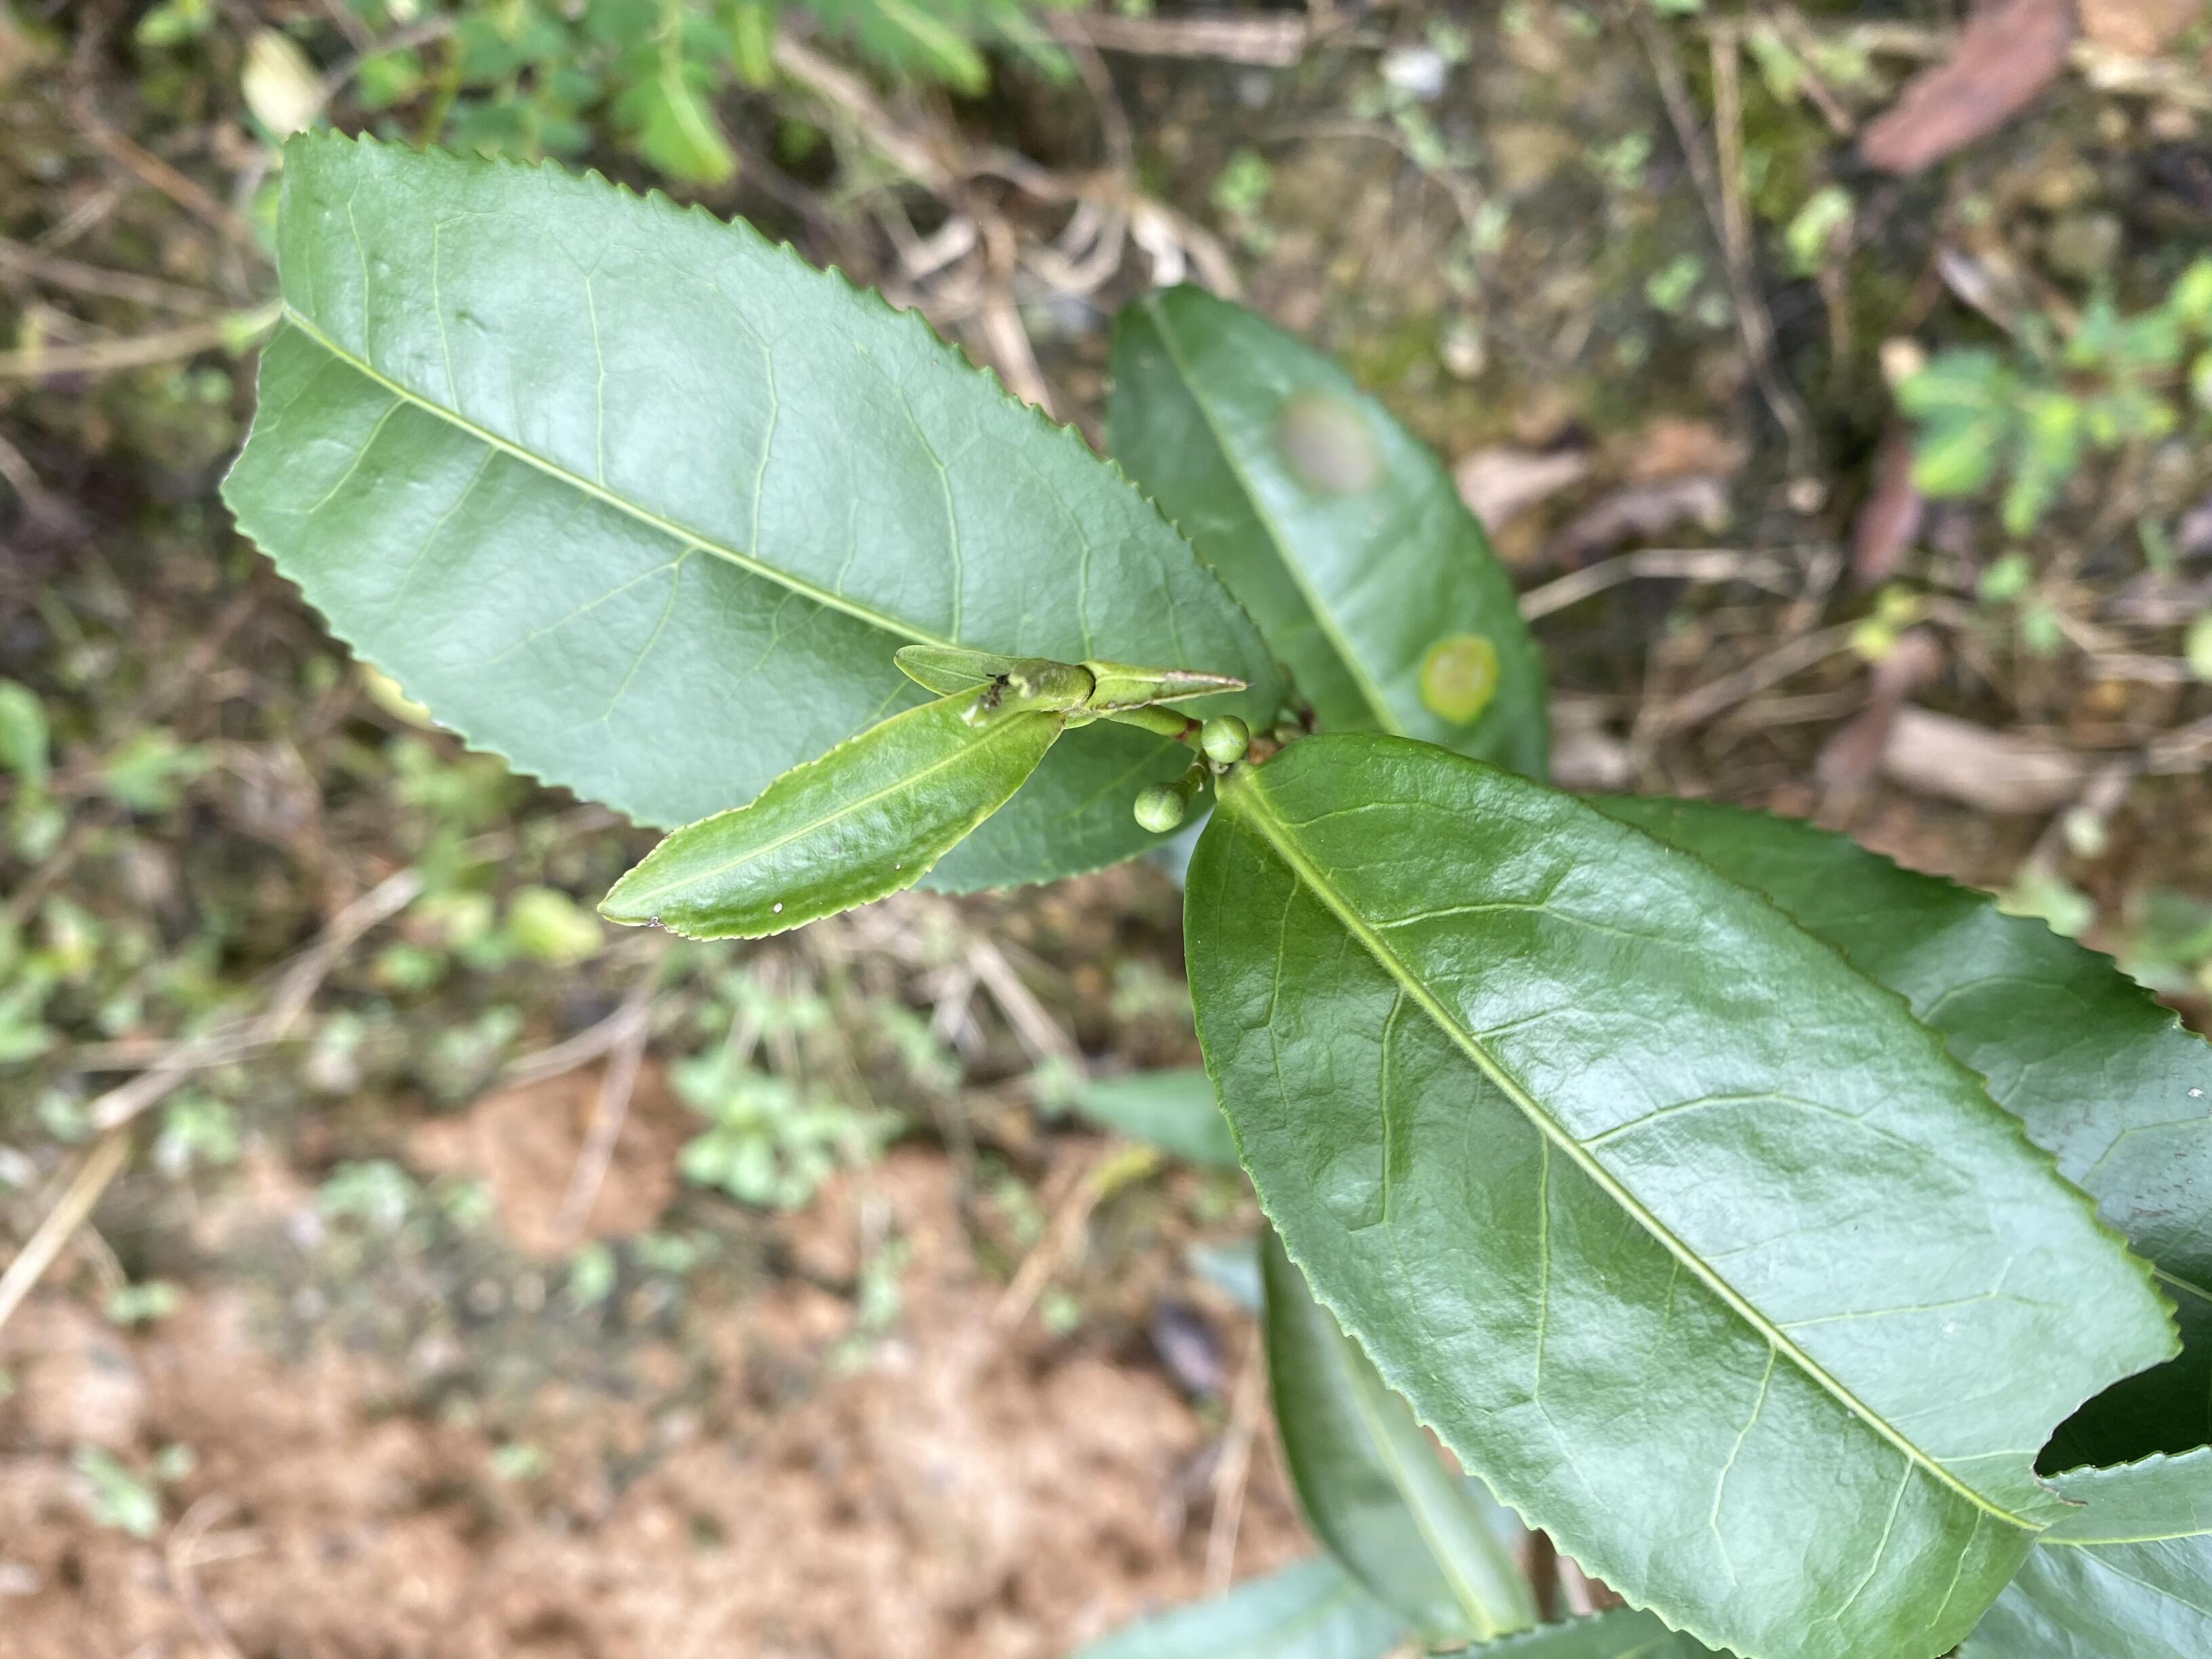chabing_high: (1113, 284, 1554, 775)
chihuo_low: (1184, 732, 2182, 1656), (216, 127, 1280, 897)
tanju_low: (599, 674, 1069, 943)
